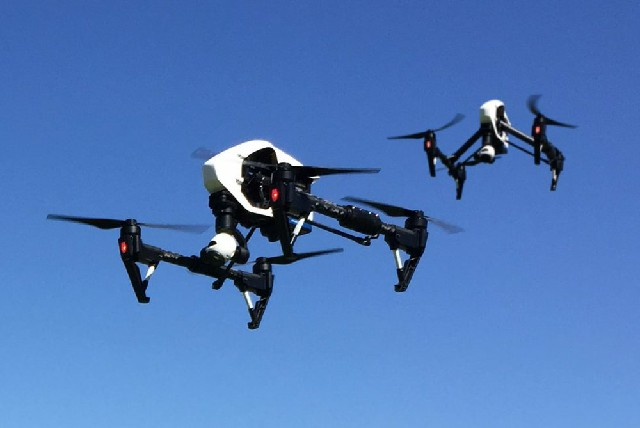maybay_khongnguoilai: (59, 140, 455, 319), (395, 90, 575, 187)
